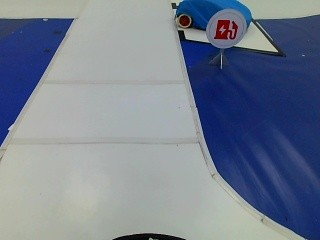battery: (207, 8, 243, 48)
car: (172, 0, 251, 37)
